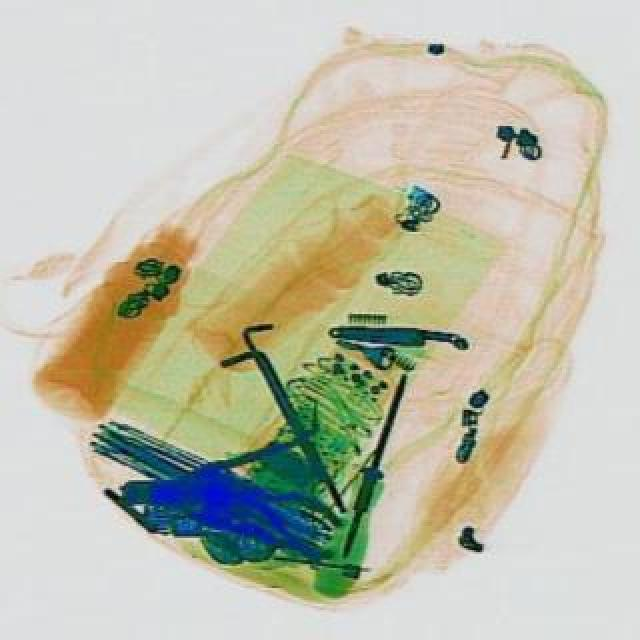wrench: (214, 464, 352, 564)
